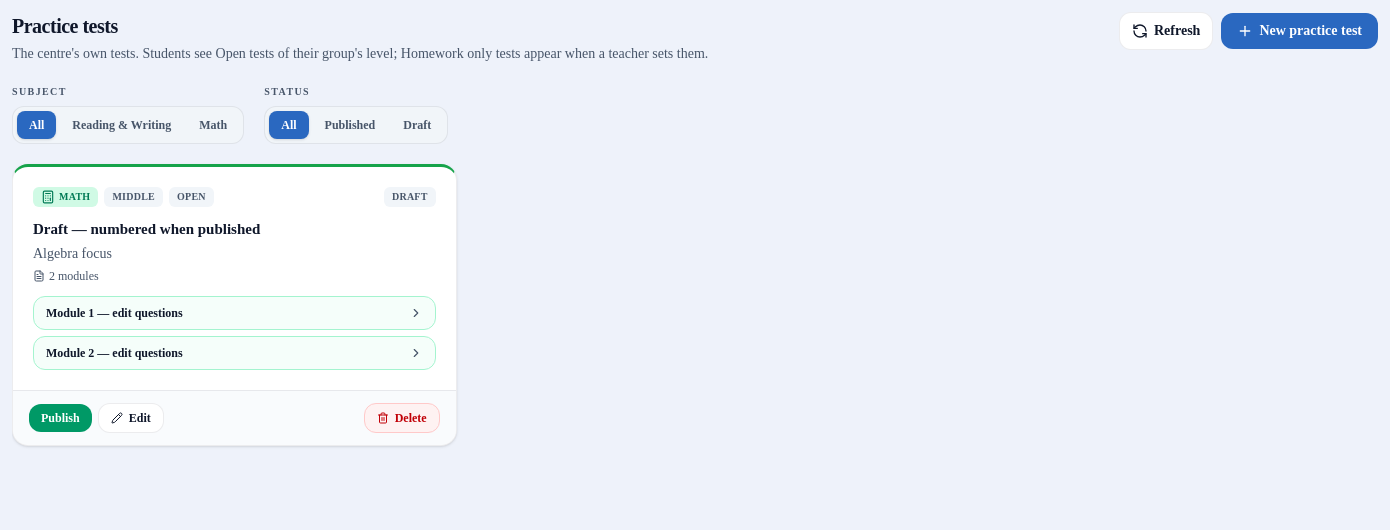
Scenario: /builder/practice-tests › publishes a draft, and lists what the server says is missing when it refuses
Click the button "Publish" at (60, 418), box [29, 404, 92, 432]
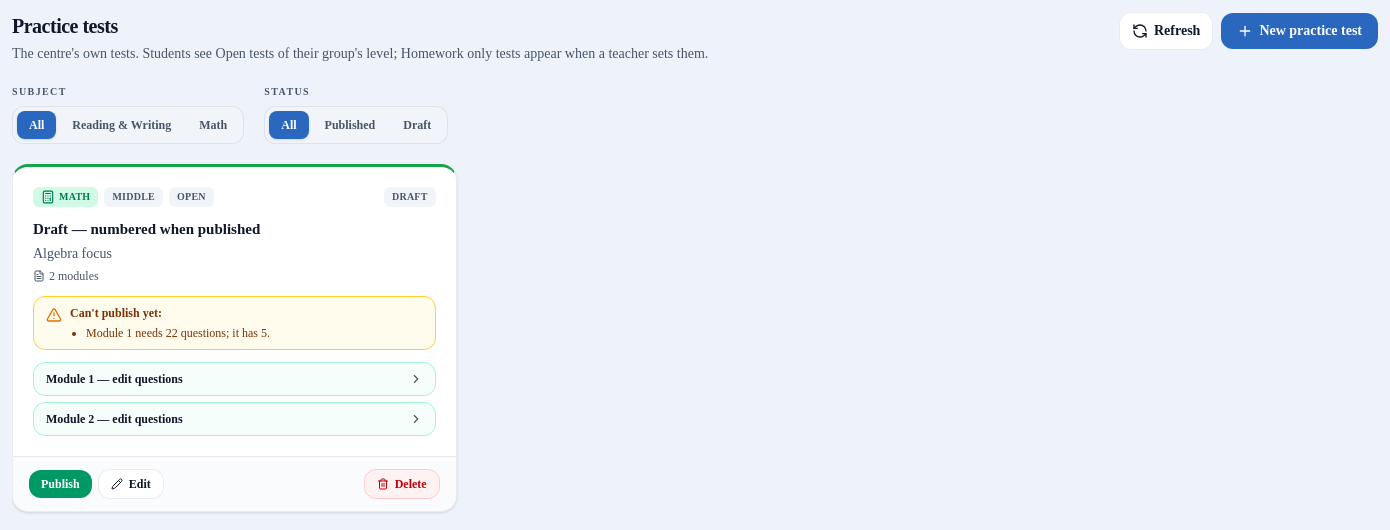
Result: the text "Can't publish yet" is shown at [70, 306, 162, 320]
Result: the text "Module 1 needs 22 questions; it has 5." is shown at [86, 325, 270, 341]
